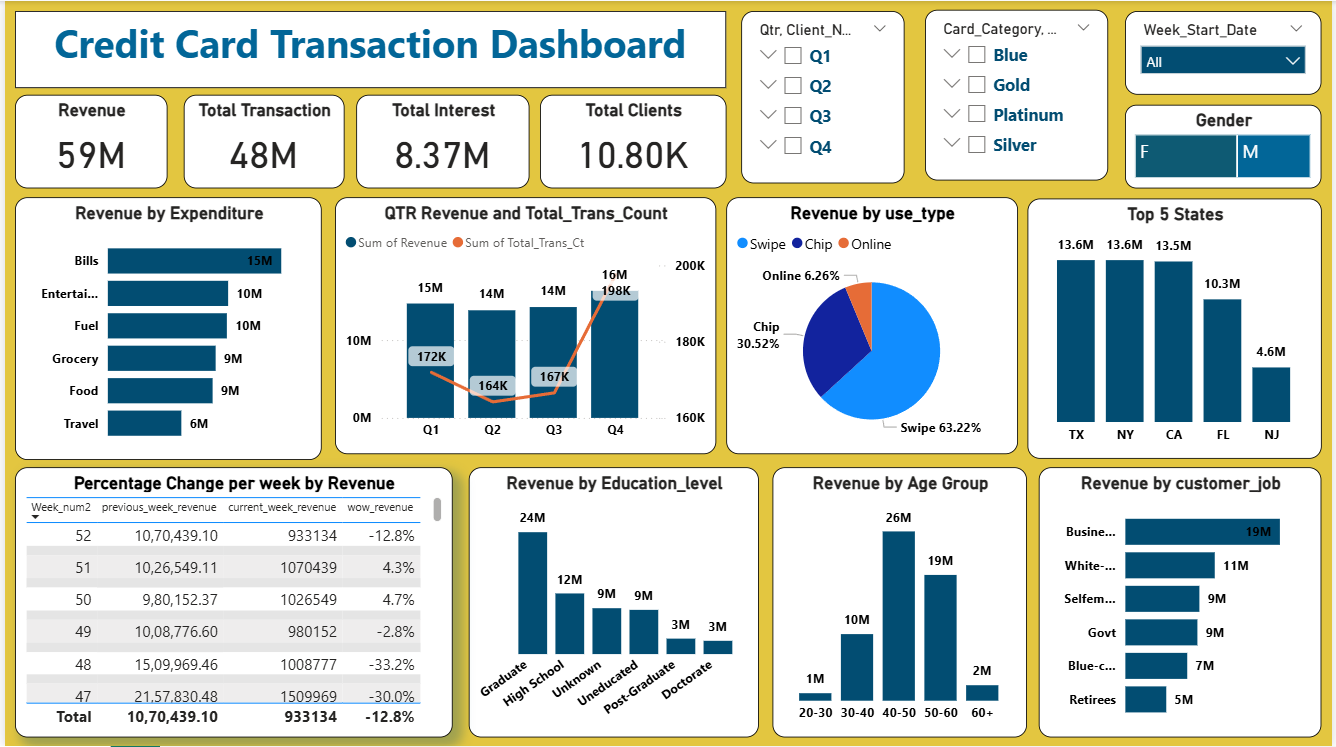

The dashboard page shown, as its layout file describes it:
{"tool":"powerbi","page":{"name":"CC_Transaction","canvas":[1280,720],"ordinal":0},"visuals":[{"type":"textbox","box":[9.6,9.6,686.1,74.1],"z":0},{"type":"lineStackedColumnComboChart","title":"QTR Revenue and Total_Trans_Count","fields":{"Category":["ccdb cc_detail.Qtr"],"Y":["Sum(ccdb cc_detail.Revenue)"],"Y2":["Sum(ccdb cc_detail.Total_Trans_Ct)"]},"box":[318.4,189.4,367.8,248.4],"z":1000},{"type":"barChart","title":" Revenue by Expenditure","fields":{"Category":["ccdb cc_detail.Exp_Type"],"Y":["Sum(ccdb cc_detail.Revenue)"]},"box":[9.6,189.4,296.4,253.9],"z":2000},{"type":"clusteredColumnChart","title":" Revenue by Education_level","fields":{"Category":["ccdb cust_detail.Education_Level"],"Y":["Sum(ccdb cc_detail.Revenue)"]},"box":[447.3,450.1,279.9,260.7],"z":3000},{"type":"barChart","title":" Revenue by customer_job","fields":{"Category":["ccdb cust_detail.Customer_Job"],"Y":["Sum(ccdb cc_detail.Revenue)"]},"box":[997.6,450.1,273.1,260.7],"z":4000},{"type":"pieChart","title":" Revenue by use_type","fields":{"Category":["ccdb cc_detail.Use_Chip"],"Y":["Sum(ccdb cc_detail.Revenue)"]},"box":[695.7,189.4,281.3,248.4],"z":5000},{"type":"card","title":"Revenue","fields":{"Values":["Sum(ccdb cc_detail.Revenue)"]},"box":[9.6,90.6,146.8,90.6],"z":6000},{"type":"card","title":"Total Transaction ","fields":{"Values":["Sum(ccdb cc_detail.Total_Trans_Amt)"]},"box":[172.9,90.6,155.1,90.6],"z":7000},{"type":"card","title":"Total Clients","fields":{"Values":["CountNonNull(ccdb cc_detail.Client_Num)"]},"box":[516,90.6,179.8,90.6],"z":8000},{"type":"card","title":"Total Interest ","fields":{"Values":["Sum(ccdb cc_detail.Interest_Earned)"]},"box":[338.9,90.6,167.4,90.6],"z":9000},{"type":"slicer","fields":{"Values":["ccdb cc_detail.Week_Start_Date"]},"box":[1081.3,9.6,189.4,81],"z":10000},{"type":"slicer","fields":{"Values":["ccdb cc_detail.Qtr","ccdb cc_detail.Client_Num"]},"box":[710.8,9.6,157.8,166],"z":11000},{"type":"treemap","title":"Gender","fields":{"Values":["CountNonNull(ccdb cc_detail.Client_Num)"],"Group":["ccdb cust_detail.Gender"]},"box":[1081.3,100.2,189.4,81],"z":12000},{"type":"slicer","fields":{"Values":["ccdb cc_detail.Card_Category","ccdb cc_detail.Client_Num"]},"box":[887.8,8.2,177,164.7],"z":13000},{"type":"columnChart","title":" Revenue by Age Group","fields":{"Category":["ccdb cust_detail.AgeGroup"],"Y":["Sum(ccdb cc_detail.Revenue)"]},"box":[741,450.1,245.6,260.7],"z":14000},{"type":"lineStackedColumnComboChart","title":"Top 5 States","fields":{"Category":["ccdb cust_detail.State_cd"],"Y":["Sum(ccdb cc_detail.Revenue)"]},"box":[986.6,190.7,284,251.1],"z":15000},{"type":"tableEx","title":"Percentage Change per week by Revenue ","fields":{"Values":["ccdb cc_detail.Week_num2","ccdb cc_detail.previous_week_revenue","ccdb cc_detail.current_week_revenue","ccdb cc_detail.wow_revenue"]},"box":[9.7,450,422.3,260.6],"z":16000}]}

Visuals, with their boxes in screenshot pixels (x1, y1, x2, y2), scaled from the page's 1280x720 canvas onto the 1336x747 screenshot:
textbox: Rect(10, 10, 726, 87)
"QTR Revenue and Total_Trans_Count" lineStackedColumnComboChart: Rect(332, 197, 716, 454)
" Revenue by Expenditure" barChart: Rect(10, 197, 319, 460)
" Revenue by Education_level" clusteredColumnChart: Rect(467, 467, 759, 737)
" Revenue by customer_job" barChart: Rect(1041, 467, 1326, 737)
" Revenue by use_type" pieChart: Rect(726, 197, 1020, 454)
"Revenue" card: Rect(10, 94, 163, 188)
"Total Transaction " card: Rect(180, 94, 342, 188)
"Total Clients" card: Rect(539, 94, 726, 188)
"Total Interest " card: Rect(354, 94, 528, 188)
slicer - ccdb cc_detail.Week_Start_Date: Rect(1129, 10, 1326, 94)
slicer - ccdb cc_detail.Qtr x ccdb cc_detail.Client_Num: Rect(742, 10, 907, 182)
"Gender" treemap: Rect(1129, 104, 1326, 188)
slicer - ccdb cc_detail.Card_Category x ccdb cc_detail.Client_Num: Rect(927, 9, 1111, 179)
" Revenue by Age Group" columnChart: Rect(773, 467, 1030, 737)
"Top 5 States" lineStackedColumnComboChart: Rect(1030, 198, 1326, 458)
"Percentage Change per week by Revenue " tableEx: Rect(10, 467, 451, 737)
